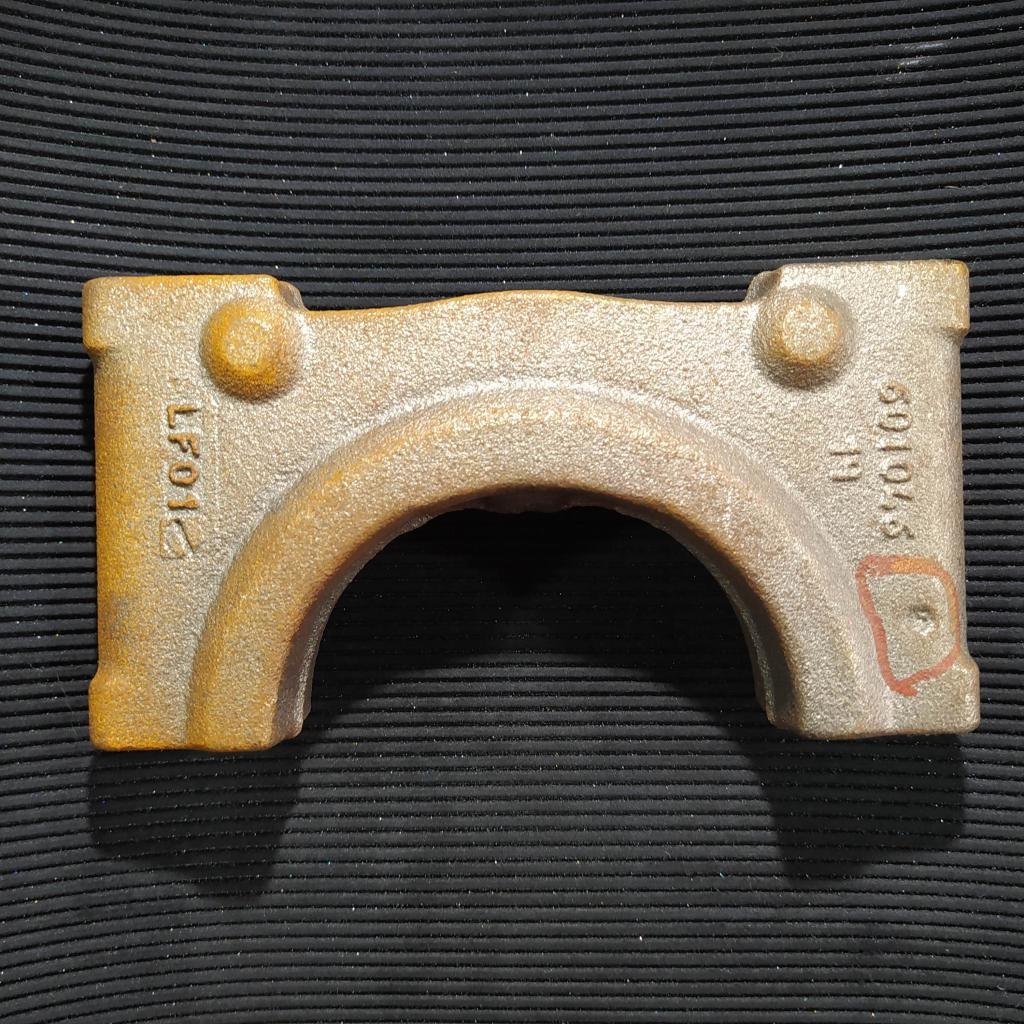buraco: (905, 600, 943, 648)
